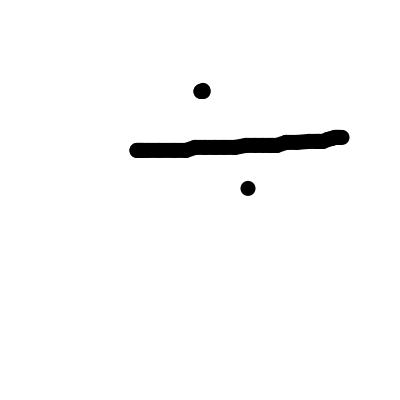div: (114, 75, 352, 206)
